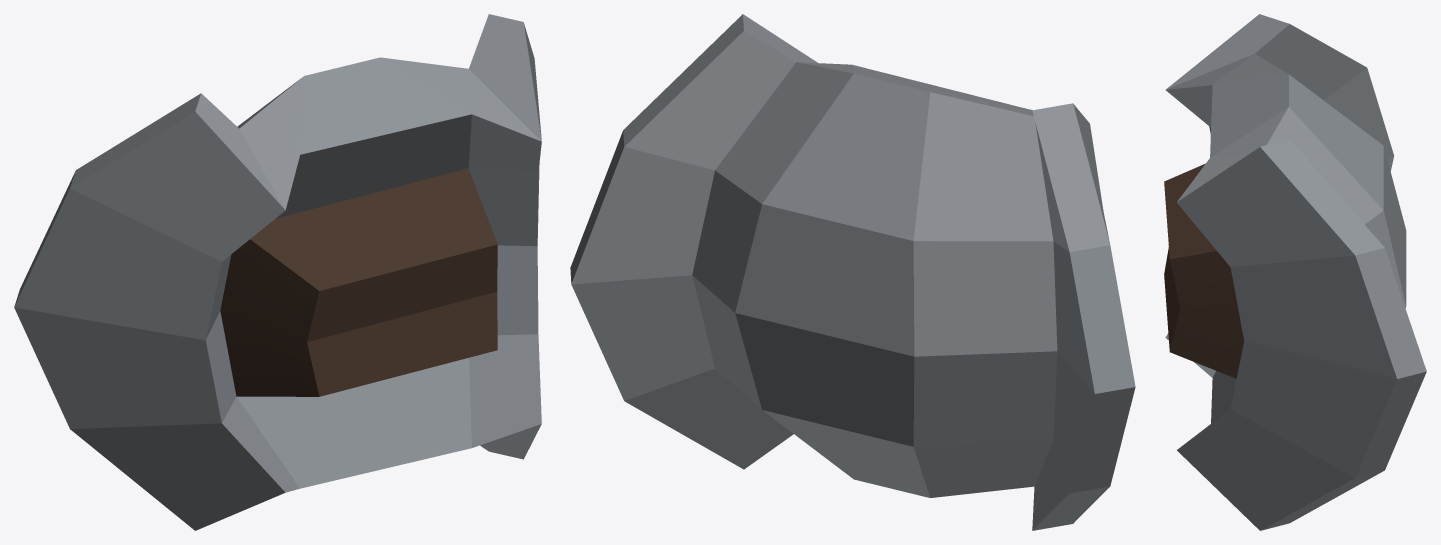
The model's file is Chr_ElbowAttachRight_04_Static.fbx.
3 renders of one model, left to right at view 1: azimuth 30°, elevation 25°; view 2: azimuth 150°, elevation 25°; view 3: azimuth 270°, elevation 25°, orthographic. The views are drawn at different scales.
Visible parts, largest first — view 1: Chr_ElbowAttachRight_04_Static; view 2: Chr_ElbowAttachRight_04_Static; view 3: Chr_ElbowAttachRight_04_Static.
Boxes of the visible parts, <box> form: Chr_ElbowAttachRight_04_Static: <box>14,14,541,530</box>; Chr_ElbowAttachRight_04_Static: <box>570,14,1135,530</box>; Chr_ElbowAttachRight_04_Static: <box>1164,14,1426,530</box>.
Size of the model in its own units: 0.1889 by 0.1451 by 0.0899.
